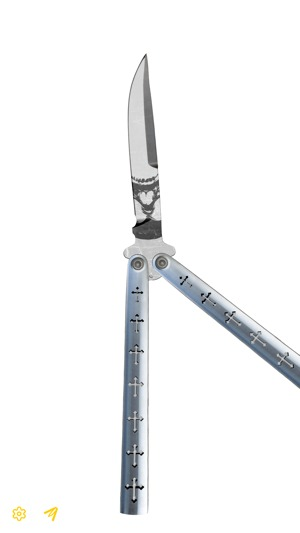knife: (115, 50, 300, 525)
